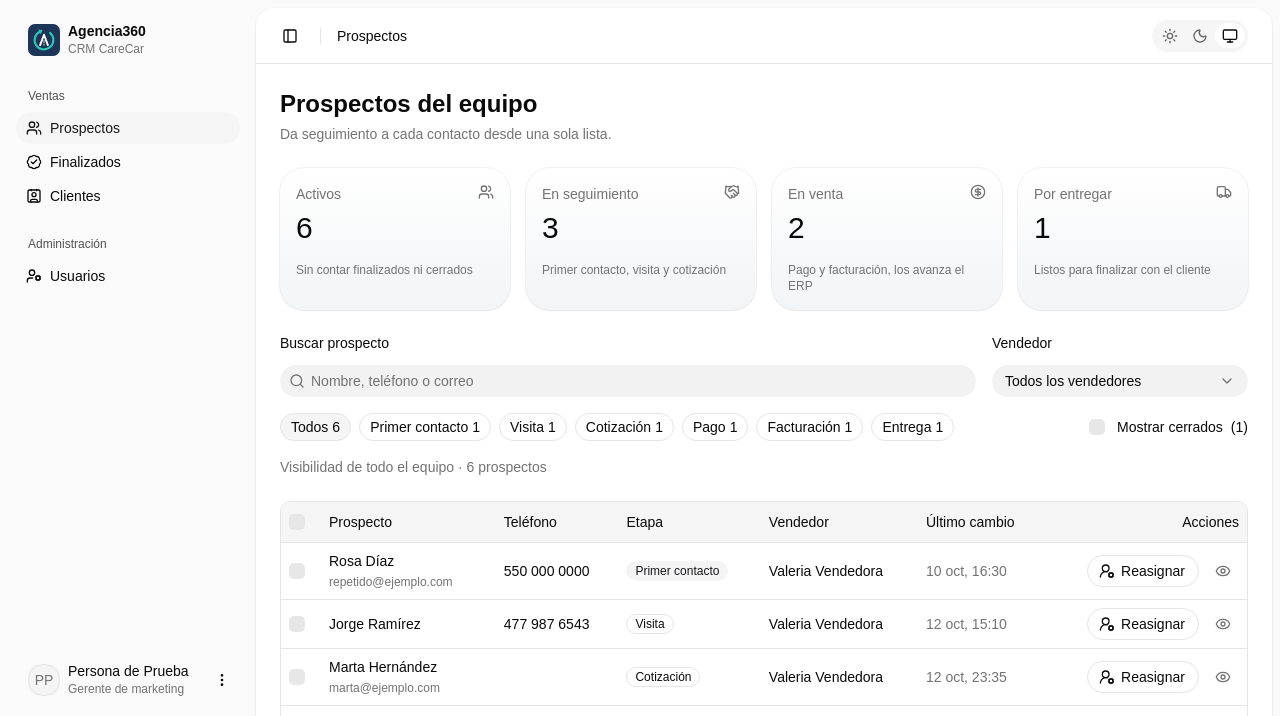
Test: Reasignación de prospectos › el gerente reasigna un prospecto a otro vendedor desde el diálogo
Click the button with aria-label "Reasignar a Rosa Díaz". click: click(1143, 571)
box: [1087,555,1199,587]
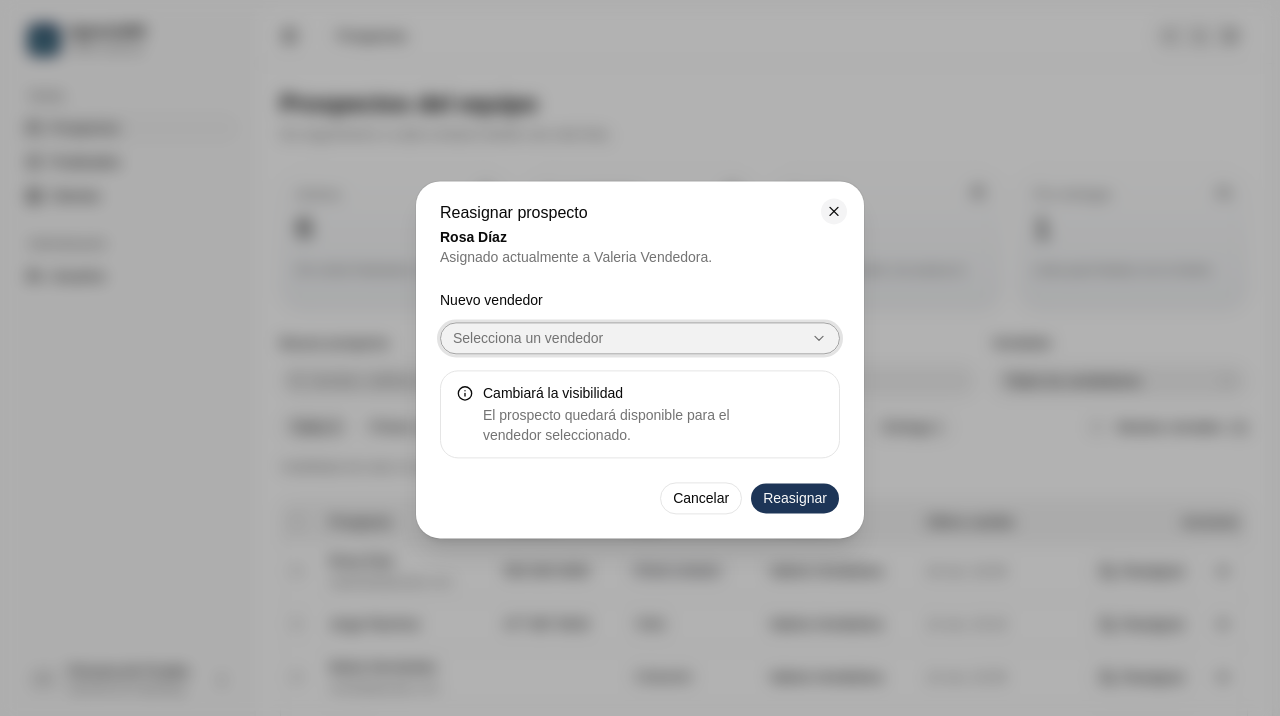
Check: the text "Rosa Díaz Asignado actualmente a Valeria Vendedora." is shown, box [440,229,712,265]
Click the dropdown named "Nuevo vendedor". click: click(528, 339)
box: [440,323,840,355]
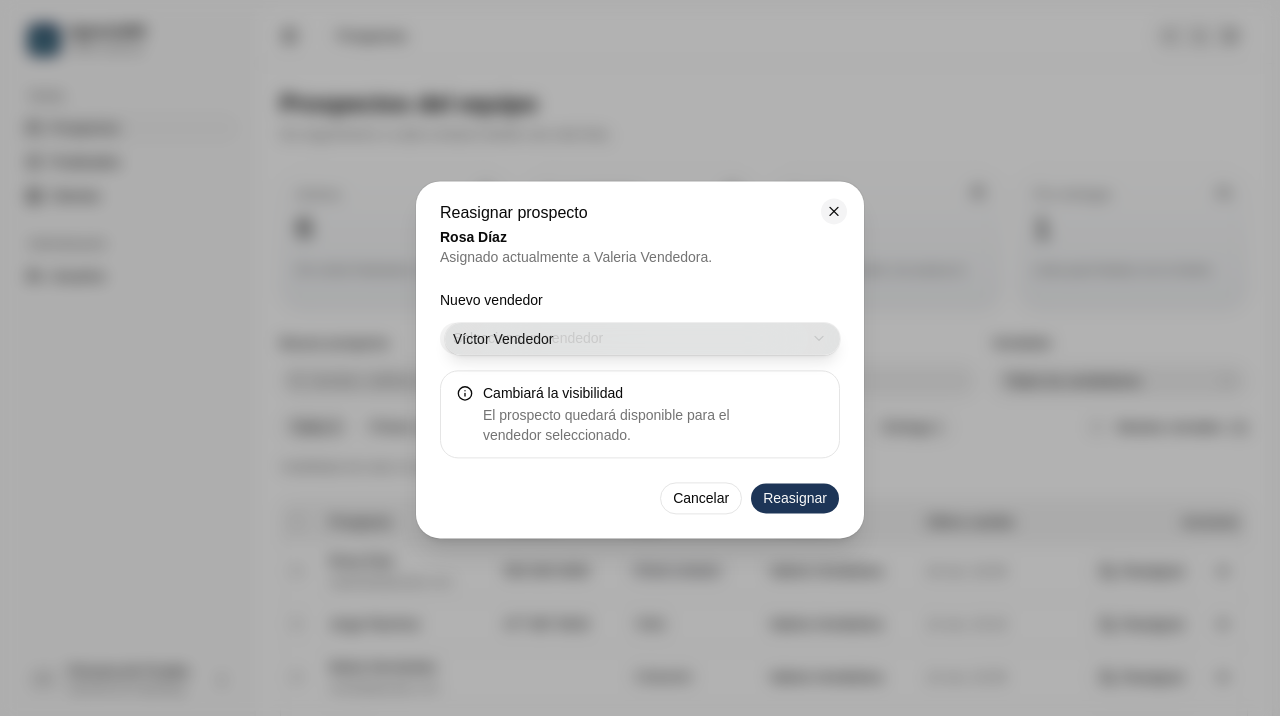
Click the option "Víctor Vendedor". click: click(503, 339)
box: [445,323,840,355]
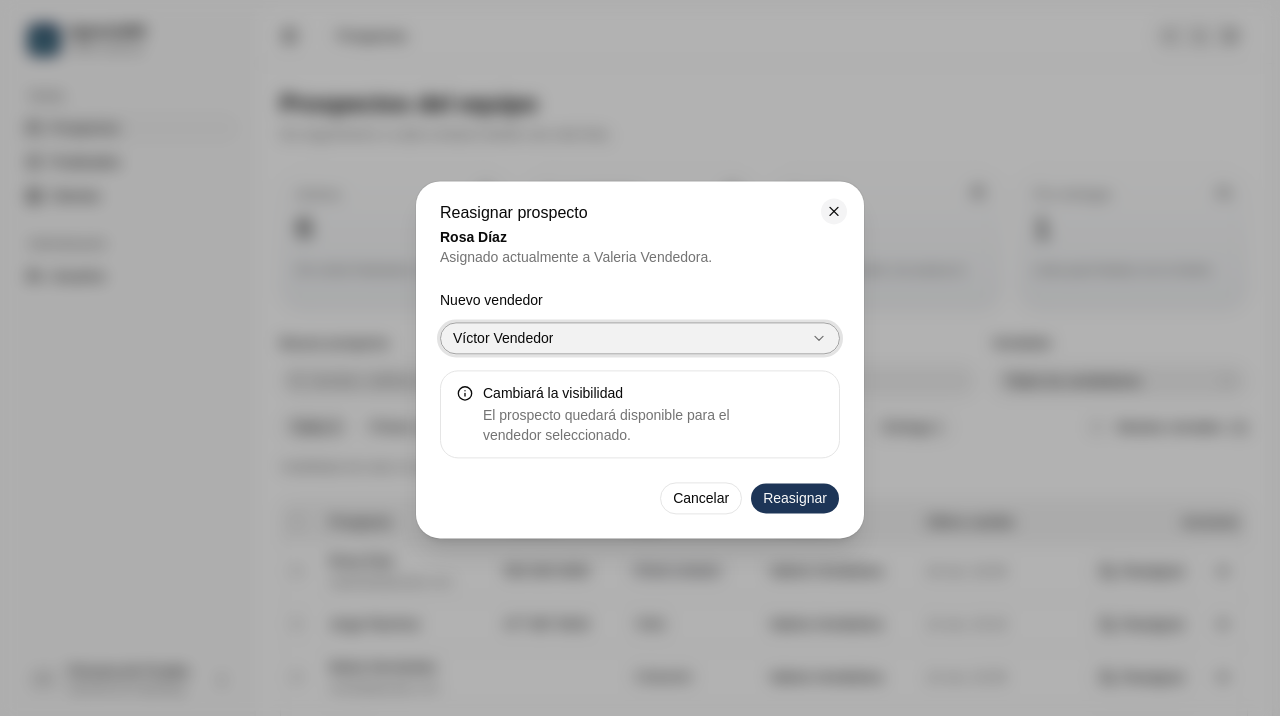
Click the button "Reasignar". click: click(795, 499)
box: [750,483,840,515]
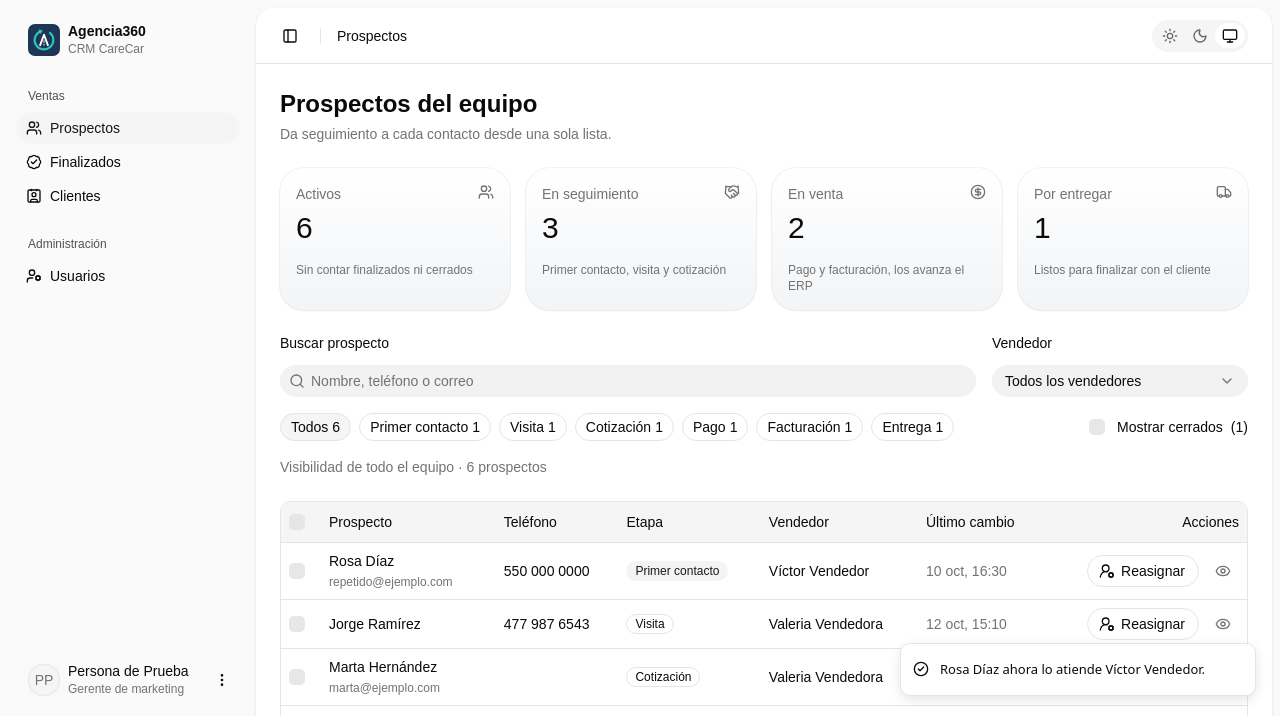
Check: the text "Rosa Díaz ahora lo atiende Víctor Vendedor." is shown, box [940,660,1205,679]
Check: the dialog is gone
Check: the text "Víctor Vendedor" is shown, box [761,542,918,599]
